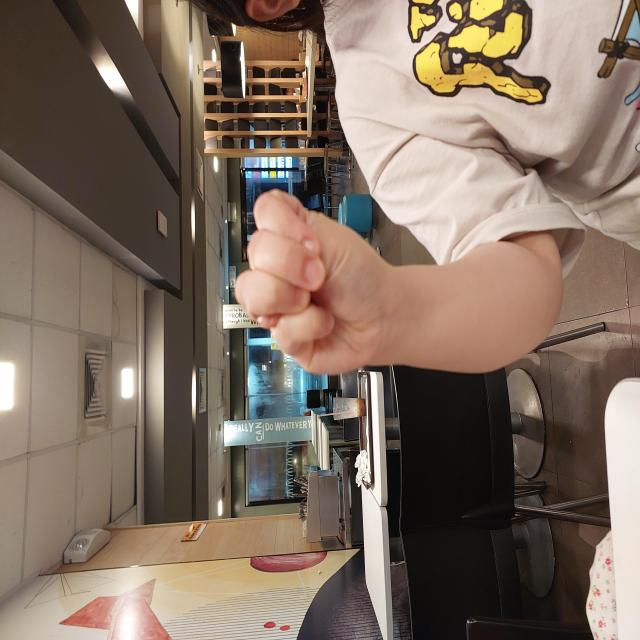M: (263, 233, 453, 386)
